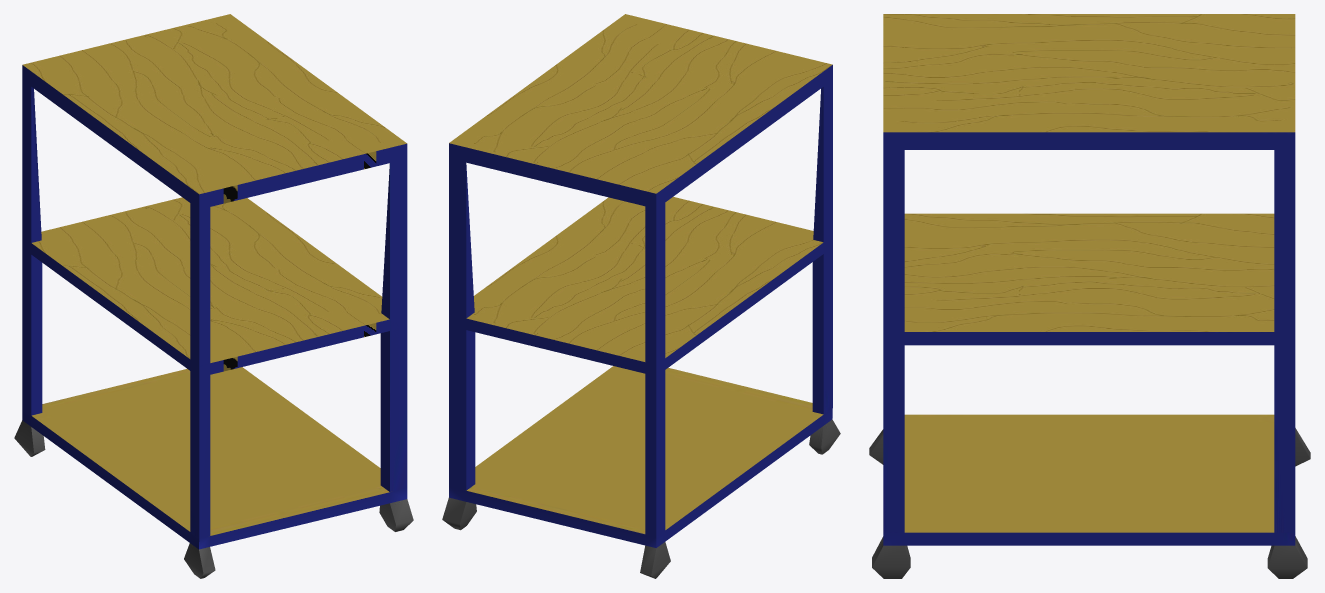
The model's file is Table_Lab_Big.fbx.
The picture shows the model from 3 angles, left to right: view 1: azimuth 30°, elevation 25°; view 2: azimuth 150°, elevation 25°; view 3: azimuth 270°, elevation 25°; orthographic projection. The views are drawn at different scales.
Visible parts, largest first — view 1: Table, Table2; view 2: Table, Table2; view 3: Table, Table2.
Boxes of the visible parts, box(x1,y1,x2,y2) form: Table: box(14, 14, 413, 578); Table2: box(16, 197, 407, 577); Table: box(442, 14, 840, 578); Table2: box(449, 197, 832, 578); Table: box(869, 14, 1310, 578); Table2: box(869, 213, 1310, 578).
Size of the model in its own units: 29.65 by 52.24 by 46.05.
Materials: 1 (1 with a texture image).
